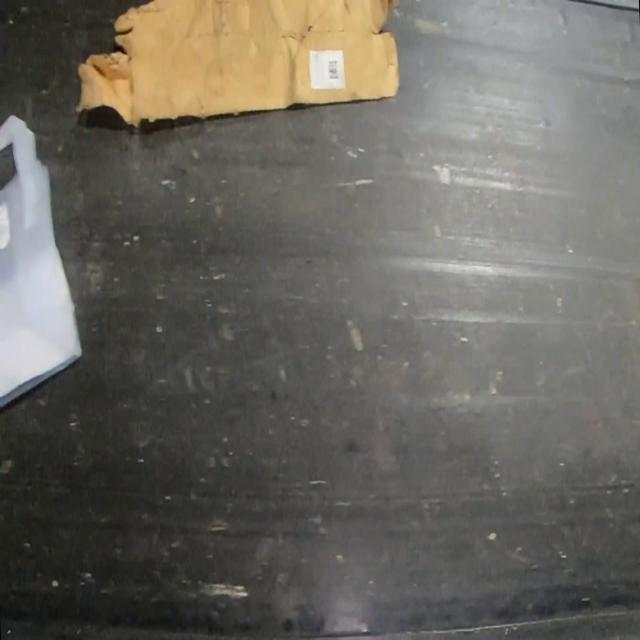cardboard: (76, 1, 398, 126)
soft_plastic: (0, 113, 82, 412)
